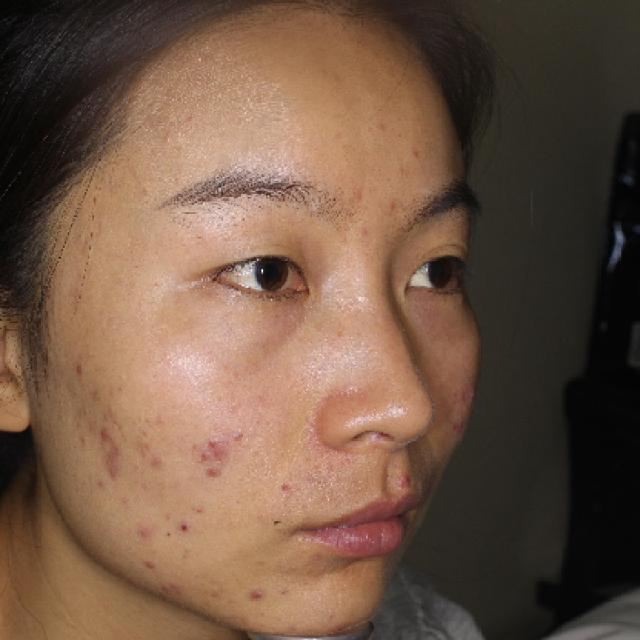Acne: (244, 580, 268, 606), (140, 553, 162, 573), (202, 464, 224, 481), (70, 360, 89, 378), (202, 432, 219, 450)
Blackheads: (171, 517, 197, 543), (268, 512, 289, 534)
